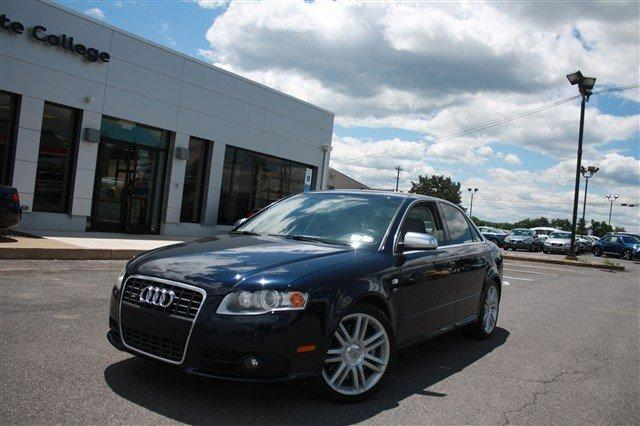Audi: (137, 280, 178, 314)
